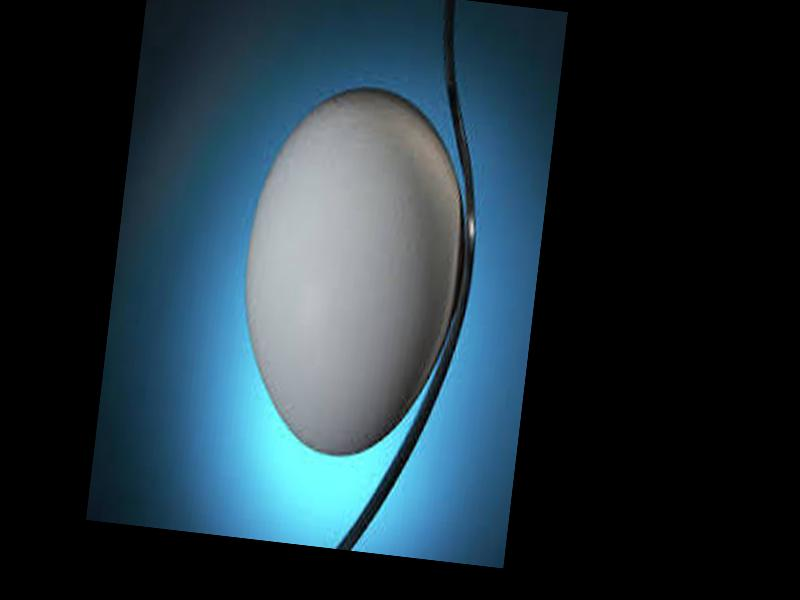Eggs: (228, 77, 478, 467)
